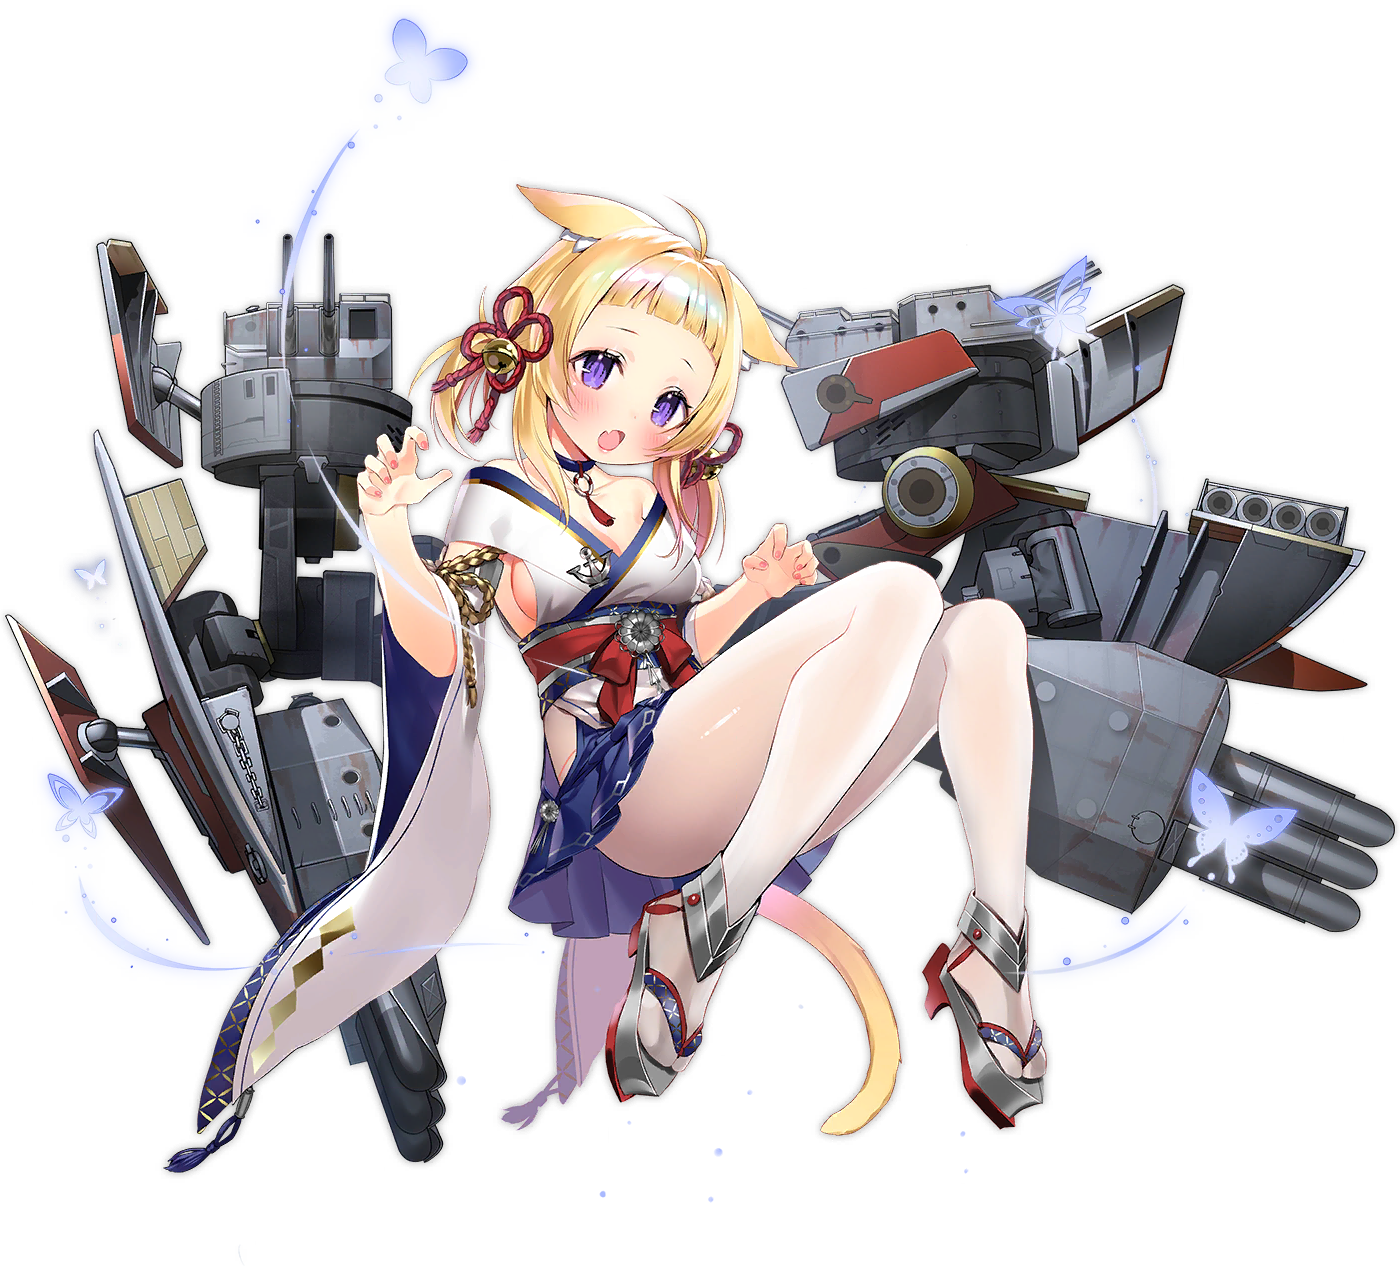person: (283, 196, 922, 1168)
